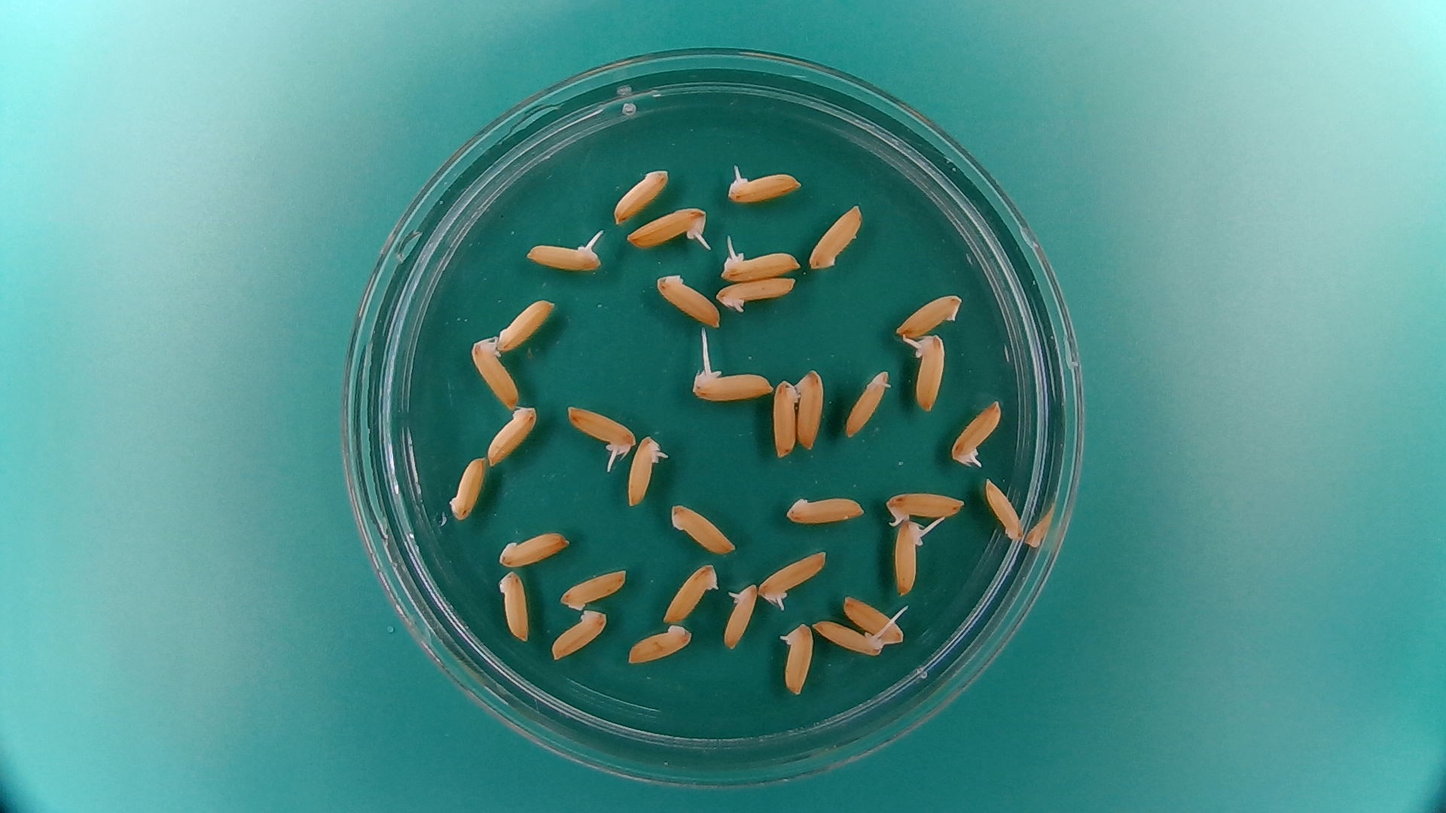no: (805, 200, 866, 272), (467, 335, 521, 410), (652, 271, 722, 328), (667, 499, 737, 556), (892, 290, 966, 340), (483, 403, 541, 466), (610, 164, 670, 224), (493, 300, 562, 352), (547, 607, 609, 664), (556, 564, 631, 611), (840, 593, 908, 643), (494, 525, 572, 568), (782, 490, 868, 528), (981, 474, 1027, 544), (624, 623, 695, 667), (446, 452, 488, 525), (769, 373, 801, 459), (495, 567, 531, 643), (795, 367, 826, 452)
yes: (561, 400, 640, 464), (685, 352, 776, 404), (757, 547, 831, 610), (622, 203, 712, 252), (947, 395, 1004, 469), (660, 561, 721, 626), (522, 227, 607, 273), (721, 161, 807, 206), (902, 330, 948, 414), (843, 364, 894, 439), (622, 430, 667, 510), (715, 242, 803, 282), (882, 486, 970, 525), (713, 274, 801, 312), (775, 617, 815, 698), (890, 516, 929, 598), (810, 616, 886, 658), (721, 577, 760, 652)
